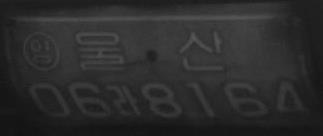0: (28, 82, 70, 117)
1: (183, 79, 218, 119)
4: (276, 79, 310, 120)
6: (223, 80, 269, 119), (70, 81, 110, 120)
8: (143, 81, 183, 119)
라: (110, 84, 143, 119)
영: (22, 30, 59, 72)
울산_D: (75, 27, 224, 73)
